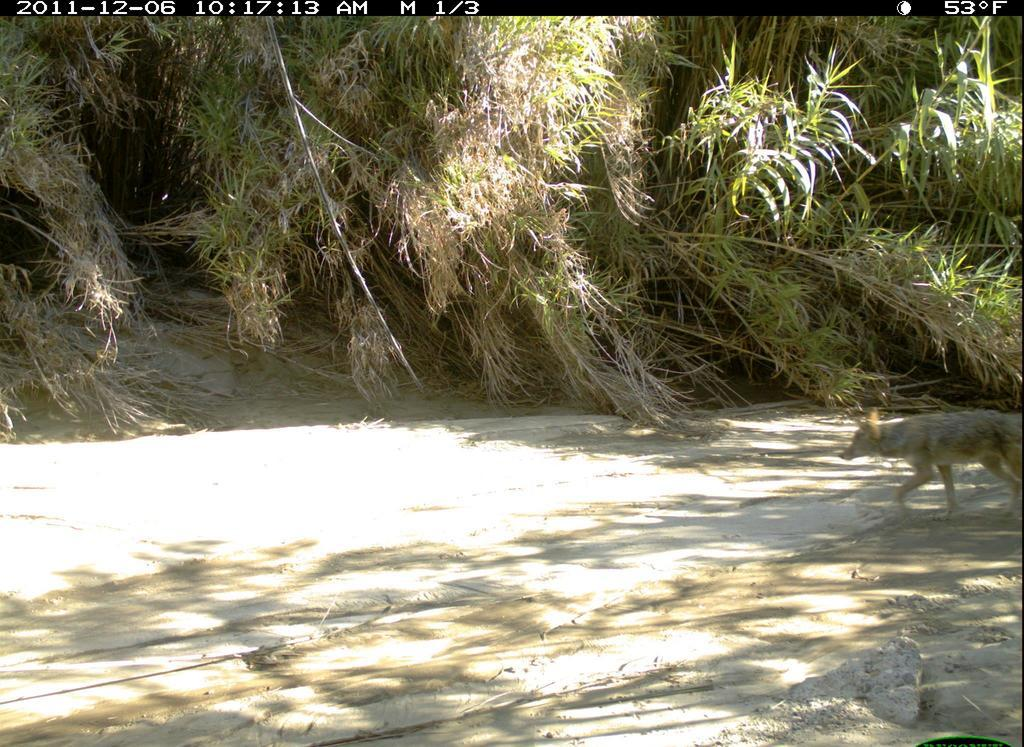coyote: (840, 404, 1022, 523)
